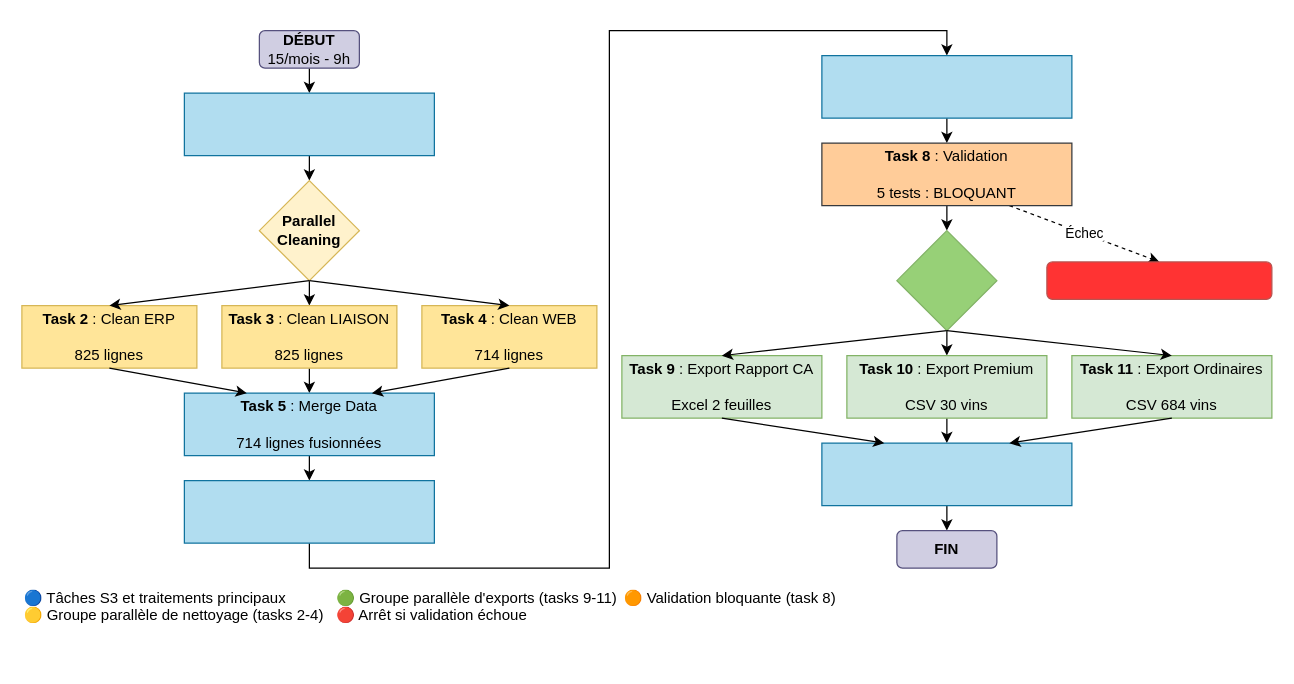
This 1294x684 diagram has some shape labels left out. Each missing label, with the centre of its shape:
"Arrêt du workflow" belongs at pixel 1159 280.
"Parallel Export" belongs at pixel 946 280.
"Task 1 : Download depuis S3 3 fichier source (RAW)" belongs at pixel 308 124.
"Task 12 : Upload vers S3 EXPORT/YYYYMMDD_HHMMSS/" belongs at pixel 946 474.
"Task 6 : Calculate CA 70 568,60 €" belongs at pixel 308 511.
"Task 7 : Classify Wines 30 premium, 684 ordinaires" belongs at pixel 946 86.
